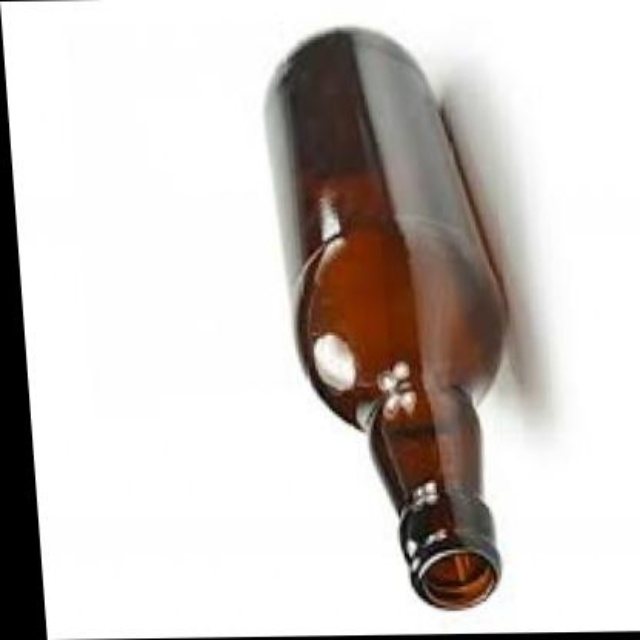trash: (266, 29, 506, 608)
